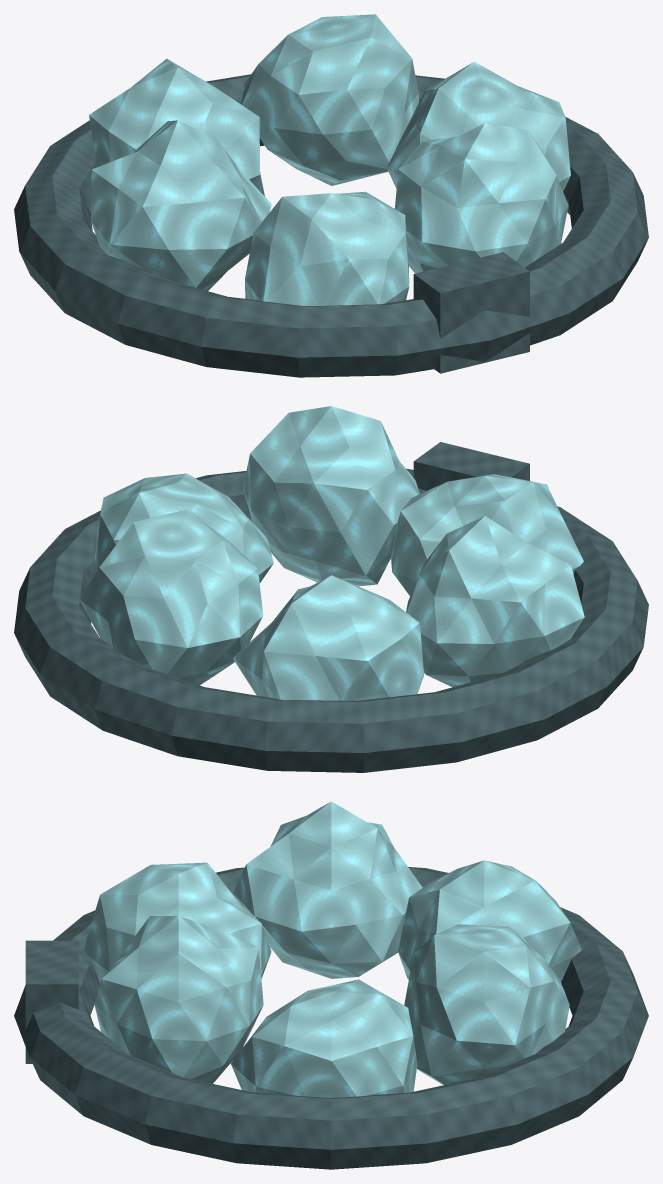
The model's file is underworld-refined-brined-pearl.glb.
3 views of the same model, one above another, from view 1: azimuth 30°, elevation 25°; view 2: azimuth 150°, elevation 25°; view 3: azimuth 270°, elevation 25° (orthographic).
Visible parts, largest first — view 1: brine-collar, pearl-1, pearl-3, pearl-5, pearl-4, pearl-2, pearl-0, seal-tab; view 2: brine-collar, pearl-5, pearl-1, pearl-3, pearl-2, pearl-4, pearl-0, seal-tab; view 3: brine-collar, pearl-3, pearl-5, pearl-1, pearl-0, pearl-2, pearl-4, seal-tab.
Boxes of the visible parts, box(x1,y1,x2,y2) form: brine-collar: box(14, 74, 648, 377); pearl-1: box(241, 14, 418, 185); pearl-3: box(90, 120, 271, 290); pearl-5: box(394, 123, 568, 273); pearl-4: box(245, 191, 409, 305); pearl-2: box(89, 58, 264, 196); pearl-0: box(387, 61, 570, 191); seal-tab: box(413, 252, 529, 373); brine-collar: box(14, 468, 648, 772); pearl-5: box(243, 406, 419, 586); pearl-1: box(79, 509, 263, 685); pearl-3: box(406, 516, 584, 687); pearl-2: box(232, 575, 423, 700); pearl-4: box(390, 474, 583, 595); pearl-0: box(94, 473, 273, 583); seal-tab: box(413, 442, 529, 490); brine-collar: box(14, 867, 648, 1169); pearl-3: box(233, 801, 422, 978); pearl-5: box(94, 915, 263, 1083); pearl-1: box(404, 924, 569, 1085); pearl-0: box(230, 979, 417, 1097); pearl-2: box(398, 860, 581, 981); pearl-4: box(84, 862, 271, 982); seal-tab: box(25, 940, 78, 1063).
Bounding box in the file's own units: 0.216 × 0.0745 × 0.216.
2 materials, 2 textured.
